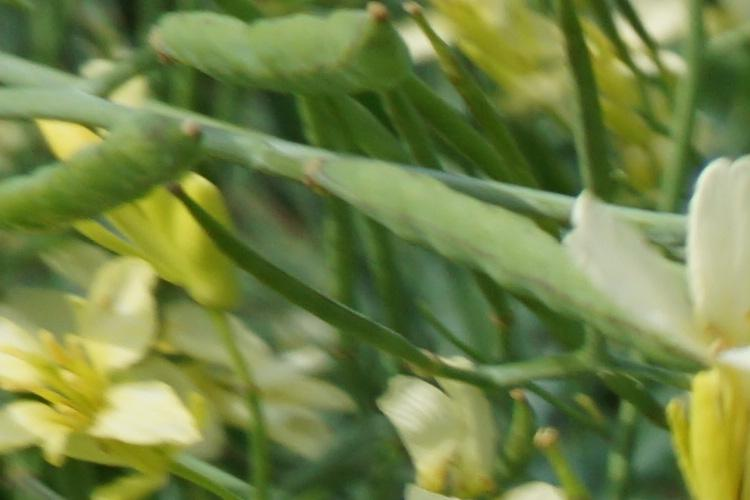pod: (307, 140, 587, 304), (19, 104, 219, 234), (139, 21, 415, 107)
white: (22, 260, 193, 466), (601, 166, 750, 364)
